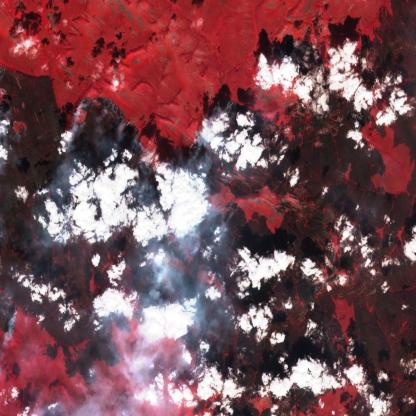fire: (67, 83, 156, 183), (198, 92, 267, 168), (262, 31, 314, 67), (153, 232, 184, 282), (0, 60, 17, 137), (0, 291, 21, 344), (217, 190, 243, 227)
